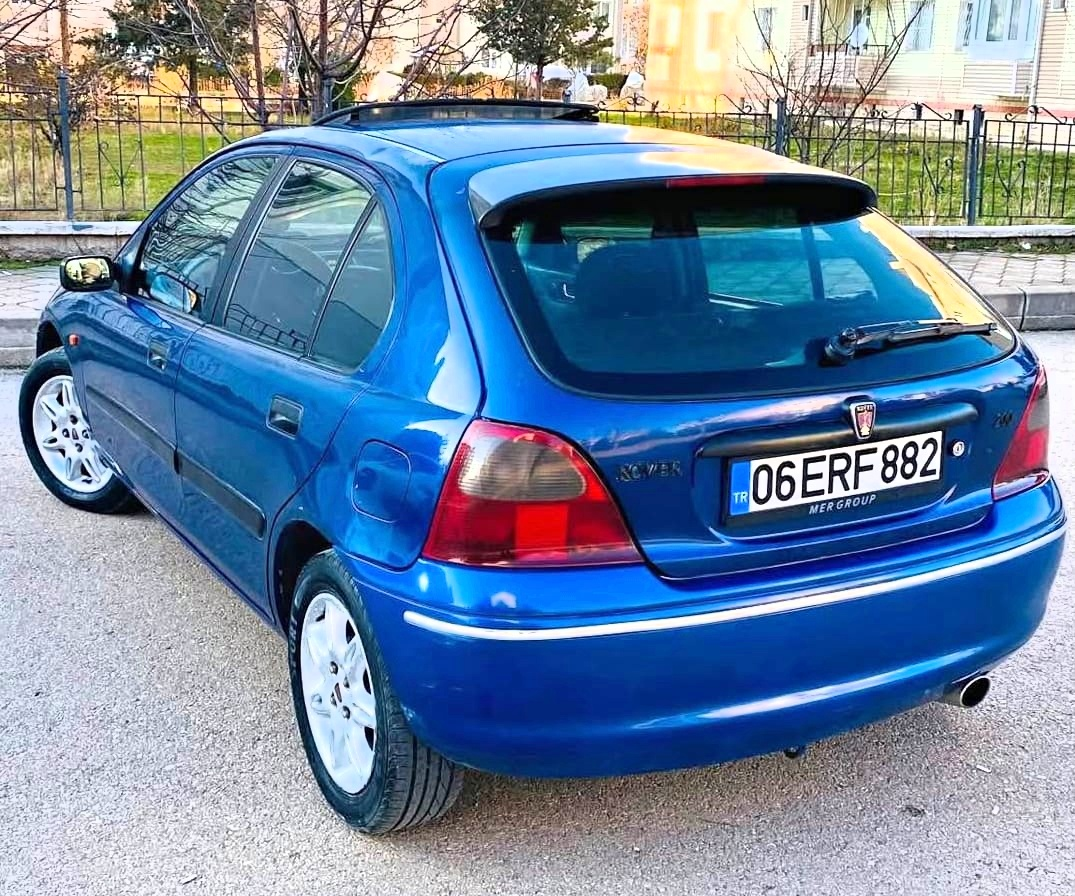plaka: (745, 433, 949, 508)
